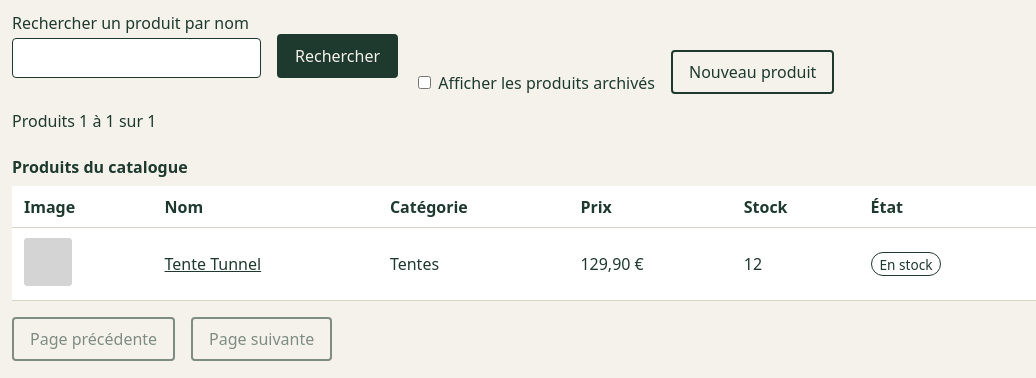
Scenario: ProductList › affiche un message dédié quand la recherche ne donne rien et permet de l’effacer
The image size is (1036, 378).
Check: the table is shown, box [12, 148, 1035, 301]
In the search field labelled "Rechercher un produit par nom": [136, 58] box [12, 38, 261, 78], type "zzz"
Then press Enter
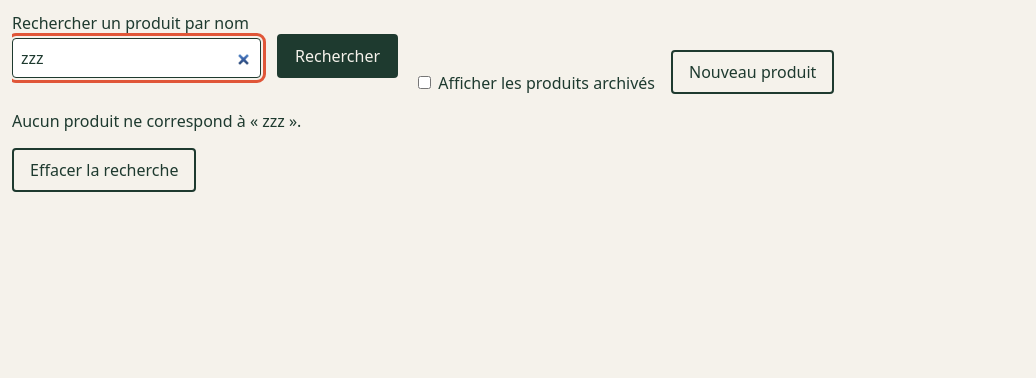
Check: the text "Aucun produit ne correspond à « zzz »." is shown, box [12, 110, 301, 132]
Click the button "Effacer la recherche": [104, 170] box [12, 148, 196, 192]
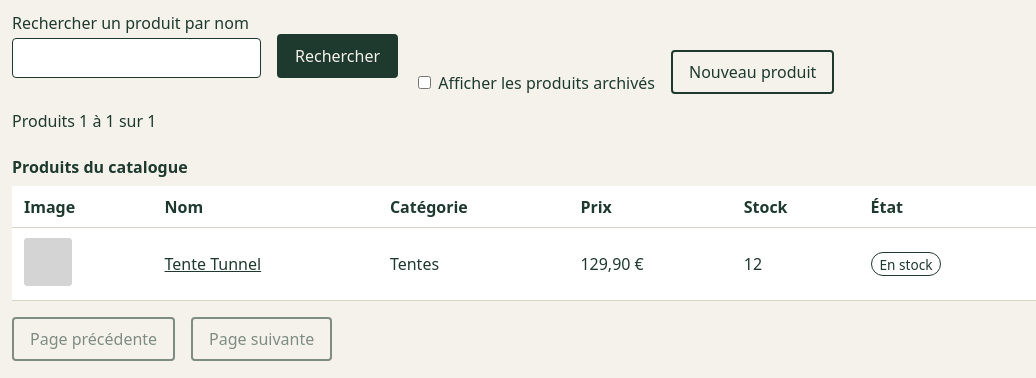
Check: the table is shown, box [12, 148, 1035, 301]
Check: the search field labelled "Rechercher un produit par nom" is empty, box [12, 38, 261, 78]
